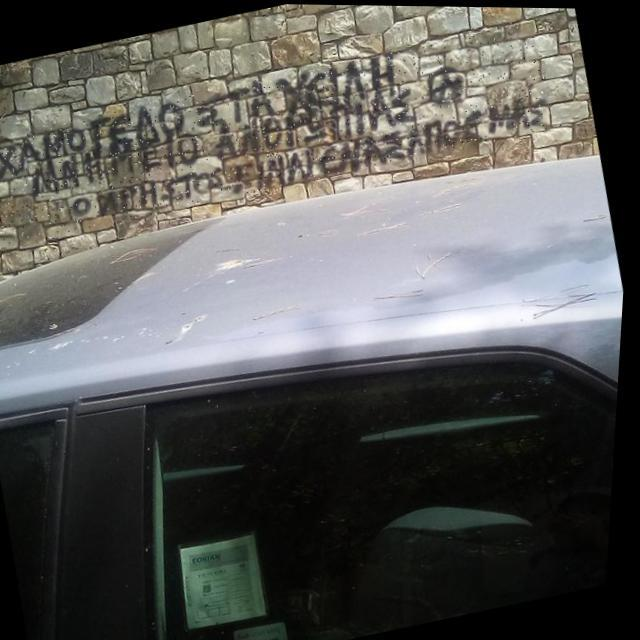-: (0, 14, 557, 250)
